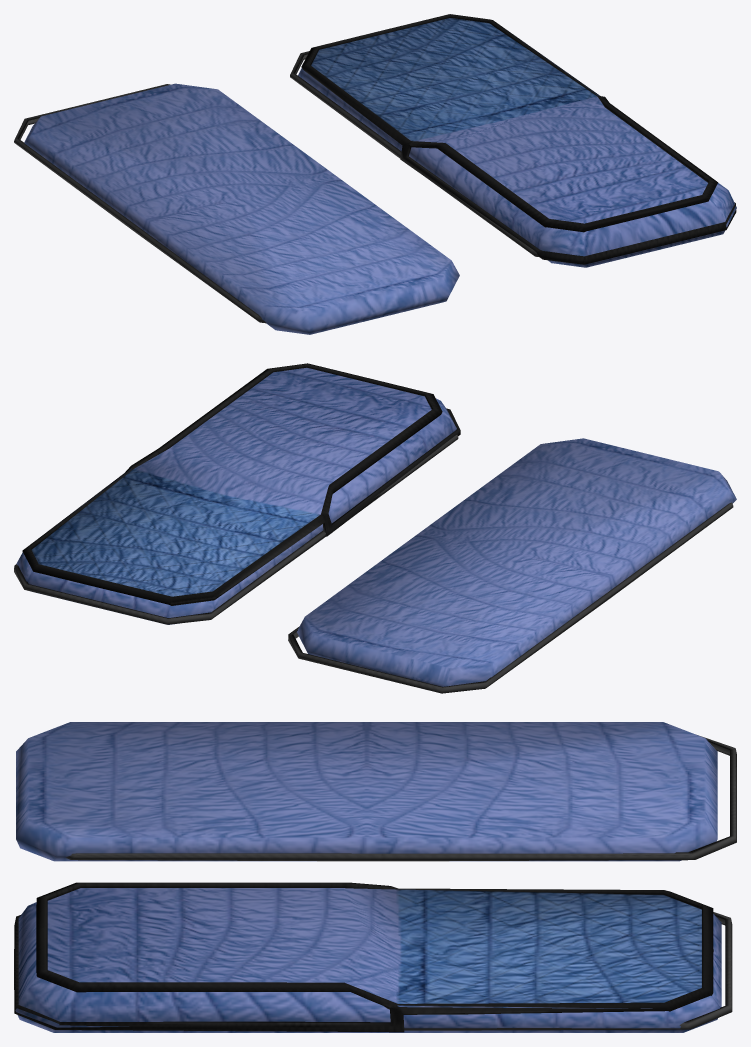
Rendered from SleepingBags_Blue.obj.
The picture shows the model from 3 angles, top to bottom: view 1: azimuth 30°, elevation 25°; view 2: azimuth 150°, elevation 25°; view 3: azimuth 270°, elevation 25°; orthographic projection. The views are drawn at different scales.
Parts seen in each view (by area): view 1: Cube.035_Material.007, Cube.006_Material.012, Cube.008_Material.013, Cube.002_Material.002, Cube.003_Material.011; view 2: Cube.035_Material.007, Cube.006_Material.012, Cube.008_Material.013, Cube.002_Material.002, Cube.003_Material.011; view 3: Cube.035_Material.007, Cube.006_Material.012, Cube.008_Material.013, Cube.002_Material.002, Cube.003_Material.011.
Boxes of the visible parts, x1,y1,x2,y2 form: Cube.035_Material.007: (24,83,459,334); Cube.006_Material.012: (298,18,736,267); Cube.008_Material.013: (301,14,736,264); Cube.002_Material.002: (14,84,266,323); Cube.003_Material.011: (290,51,538,256); Cube.035_Material.007: (297,438,736,686); Cube.006_Material.012: (16,367,456,624); Cube.008_Material.013: (22,363,460,605); Cube.002_Material.002: (288,502,733,693); Cube.003_Material.011: (14,434,458,624); Cube.035_Material.007: (16,722,717,861); Cube.006_Material.012: (15,888,721,1032); Cube.008_Material.013: (14,882,713,1032); Cube.002_Material.002: (65,735,736,861); Cube.003_Material.011: (404,912,732,1030).
Size of the model in its own units: 2.04 by 0.1409 by 2.11.
